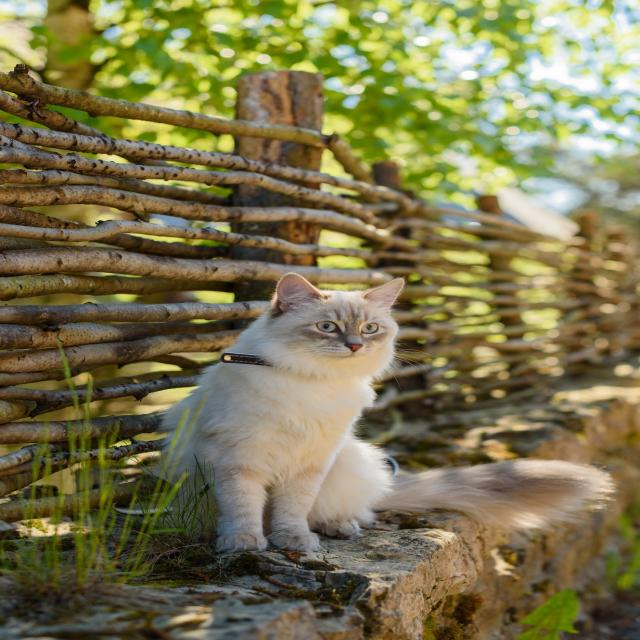Neva Masquerade: (158, 268, 617, 562)
